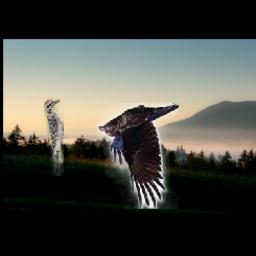Crow: (97, 104, 179, 210)
Woodpecker: (45, 100, 65, 177)
